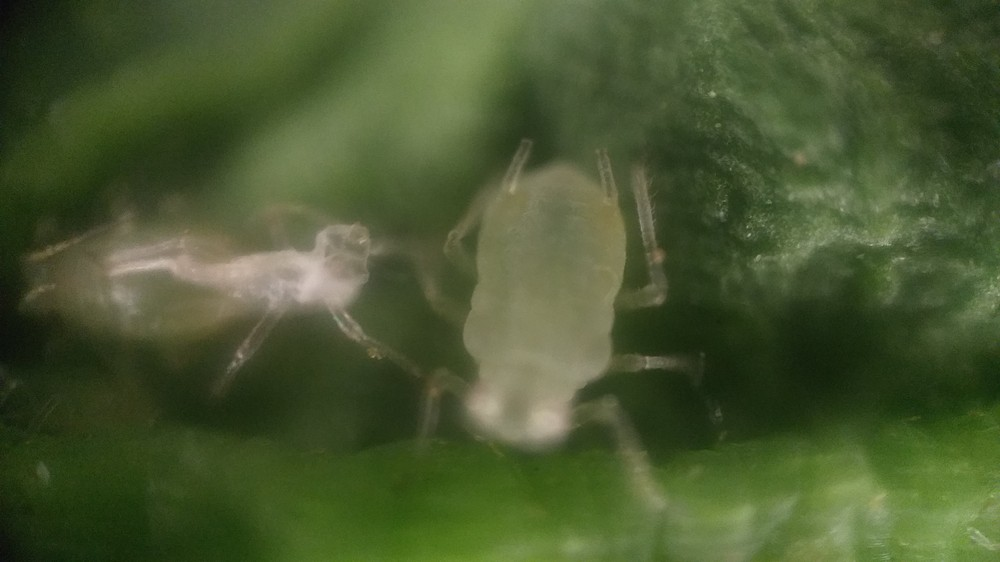Pulgon: (385, 123, 756, 527)
